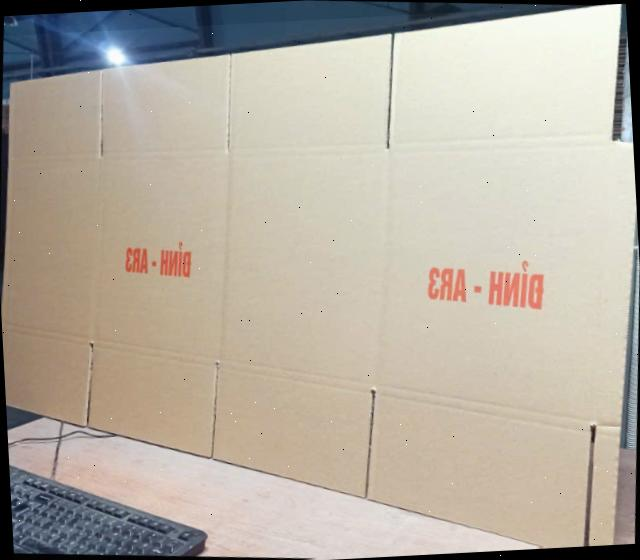box: (2, 5, 637, 547)
